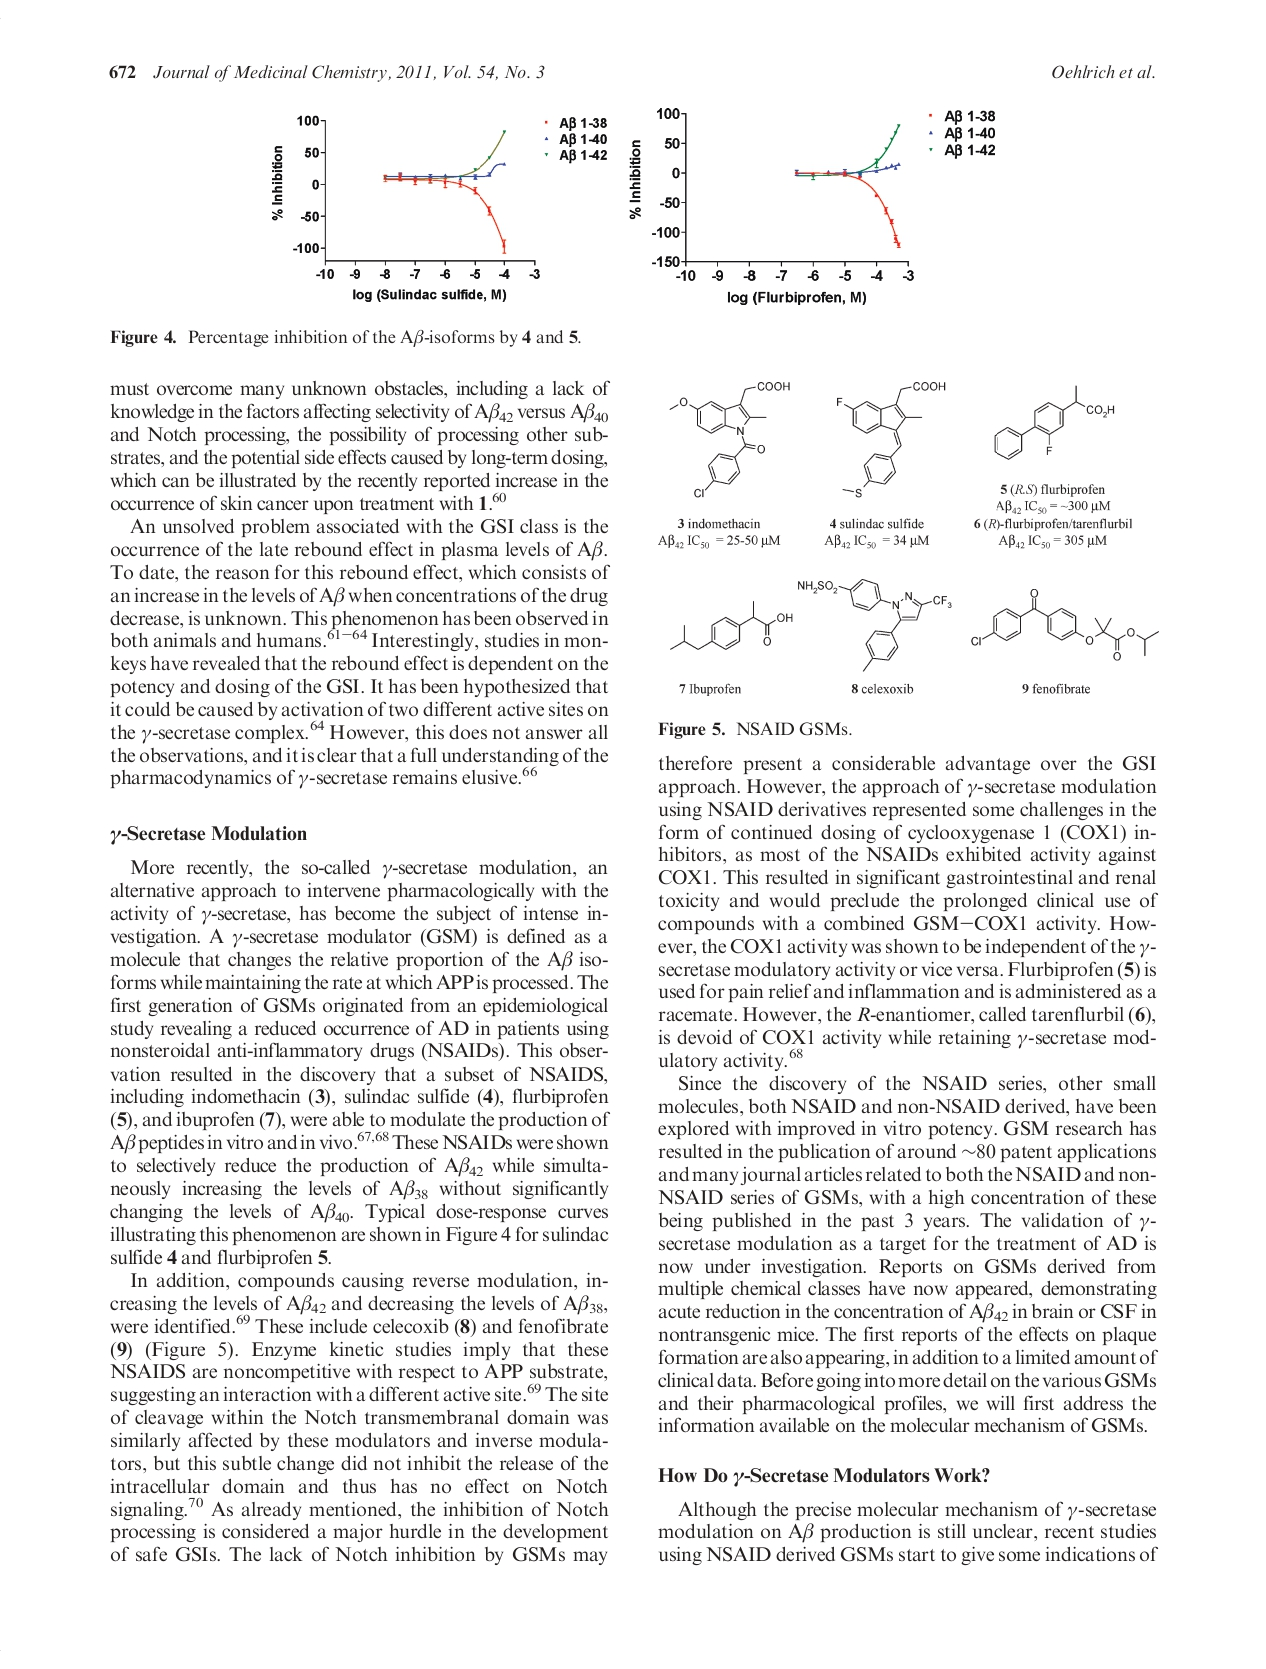exist_molecular: (794, 564, 953, 672), (969, 585, 1161, 668), (664, 380, 794, 500), (832, 376, 949, 500), (992, 384, 1117, 464), (668, 600, 795, 654)
